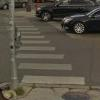Crosswalk: (5, 11, 77, 100)
